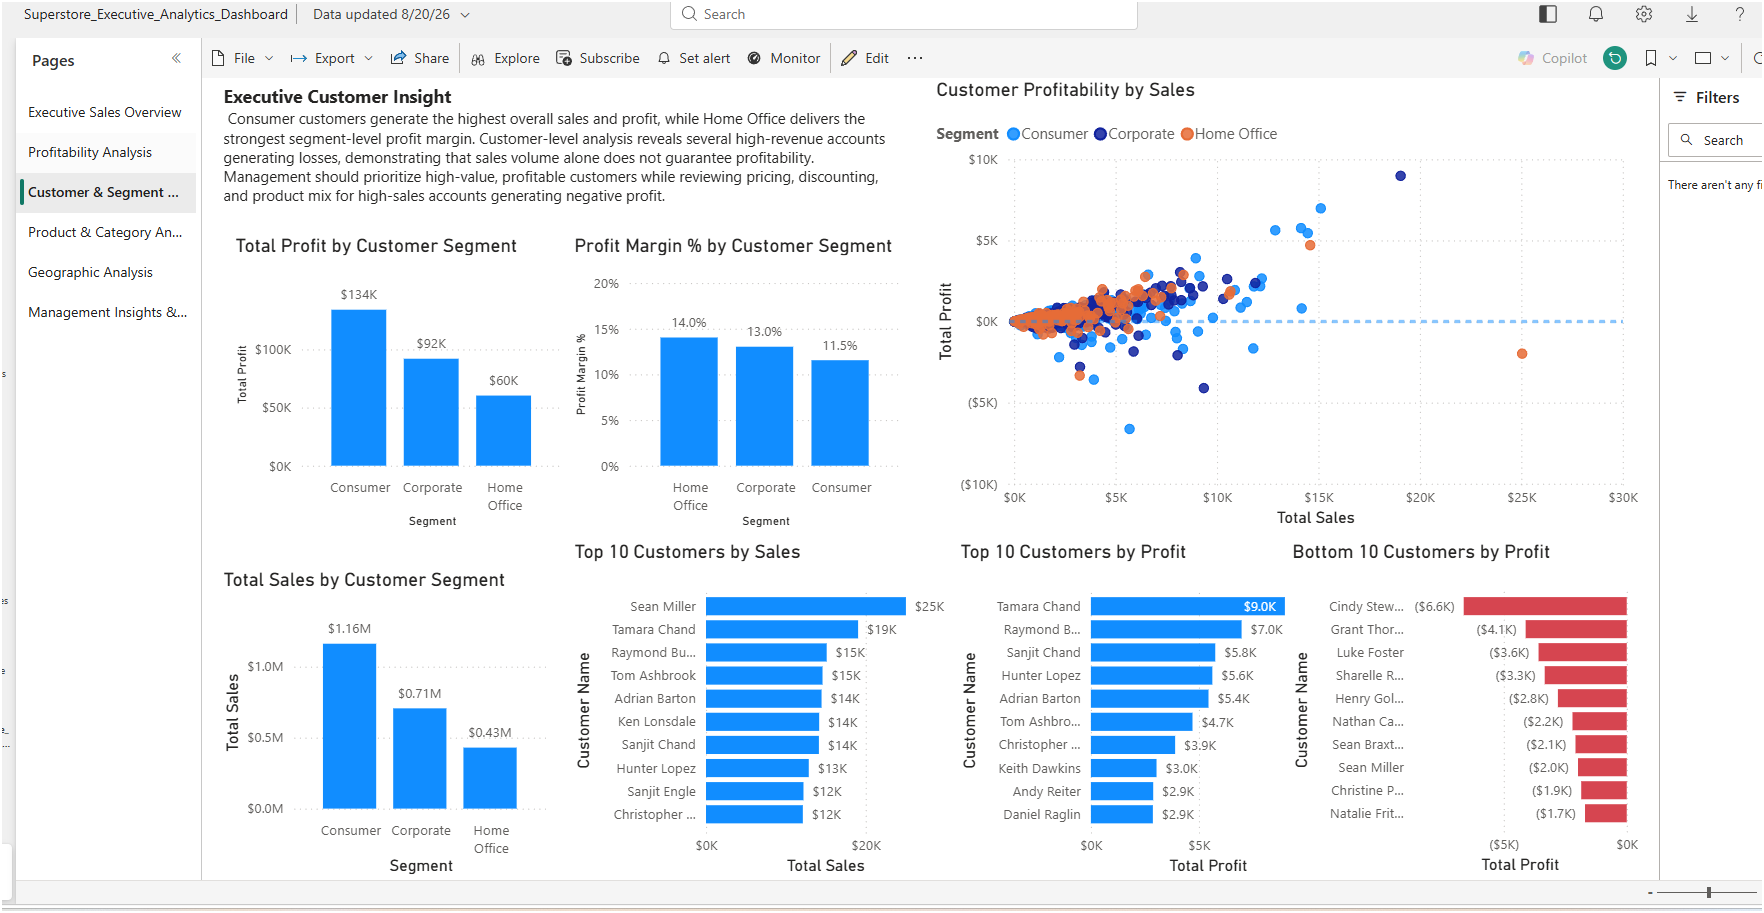

The page's visual inventory and layout, read from the dashboard file:
{"tool":"powerbi","page":{"name":"Customer & Segment Analysis","canvas":[1280,720],"ordinal":2},"visuals":[{"type":"clusteredColumnChart","title":"Total Sales by Customer Segment","fields":{"Category":["sample_superstore_clean.Segment"],"Y":["sample_superstore_clean.Total Sales"]},"box":[0,440,301,280],"z":0},{"type":"clusteredColumnChart","title":"Total Profit by Customer Segment","fields":{"Category":["sample_superstore_clean.Segment"],"Y":["sample_superstore_clean.Total Profit"]},"box":[11,140,304,268],"z":1000},{"type":"clusteredColumnChart","title":"Profit Margin % by Customer Segment","fields":{"Category":["sample_superstore_clean.Segment"],"Y":["sample_superstore_clean.Profit Margin %"]},"box":[315,140,304,268],"z":2000},{"type":"clusteredBarChart","title":"Top 10 Customers by Sales","fields":{"Category":["sample_superstore_clean.Customer Name"],"Y":["sample_superstore_clean.Total Sales"]},"box":[315,415,357,305],"z":3000},{"type":"clusteredBarChart","title":"Top 10 Customers by Profit","fields":{"Category":["sample_superstore_clean.Customer Name"],"Y":["sample_superstore_clean.Total Profit"]},"box":[662,415,352,305],"z":4000},{"type":"clusteredBarChart","title":"Bottom 10 Customers by Profit","fields":{"Category":["sample_superstore_clean.Customer Name"],"Y":["sample_superstore_clean.Total Profit"]},"box":[960,415,320,304],"z":5000},{"type":"scatterChart","title":"Customer Profitability by Sales","fields":{"Category":["sample_superstore_clean.Customer Name"],"Series":["sample_superstore_clean.Segment"],"X":["sample_superstore_clean.Total Sales"],"Y":["sample_superstore_clean.Total Profit"]},"box":[640,0,640,407.5],"z":6000},{"type":"textbox","box":[0,0,619,135],"z":7000}]}

Visuals, with their boxes on the page's 1280x720 design canvas (x1, y1, x2, y2). These are canvas units, not pixel positions in the 1764x913 screenshot, which may show the page scaled, cropped or inside an application window:
"Total Sales by Customer Segment" clusteredColumnChart: x1=0 y1=440 x2=301 y2=720
"Total Profit by Customer Segment" clusteredColumnChart: x1=11 y1=140 x2=315 y2=408
"Profit Margin % by Customer Segment" clusteredColumnChart: x1=315 y1=140 x2=619 y2=408
"Top 10 Customers by Sales" clusteredBarChart: x1=315 y1=415 x2=672 y2=720
"Top 10 Customers by Profit" clusteredBarChart: x1=662 y1=415 x2=1014 y2=720
"Bottom 10 Customers by Profit" clusteredBarChart: x1=960 y1=415 x2=1280 y2=719
"Customer Profitability by Sales" scatterChart: x1=640 y1=0 x2=1280 y2=408
textbox: x1=0 y1=0 x2=619 y2=135
